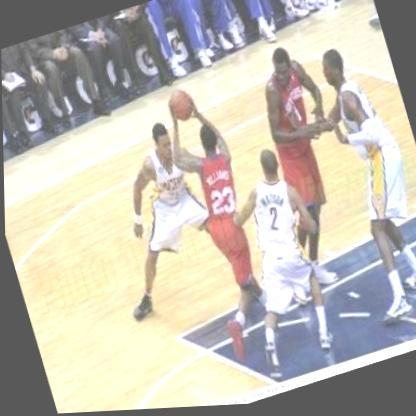basketball: (165, 84, 198, 125)
